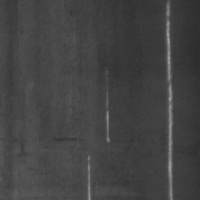scratches: (162, 1, 176, 200)
